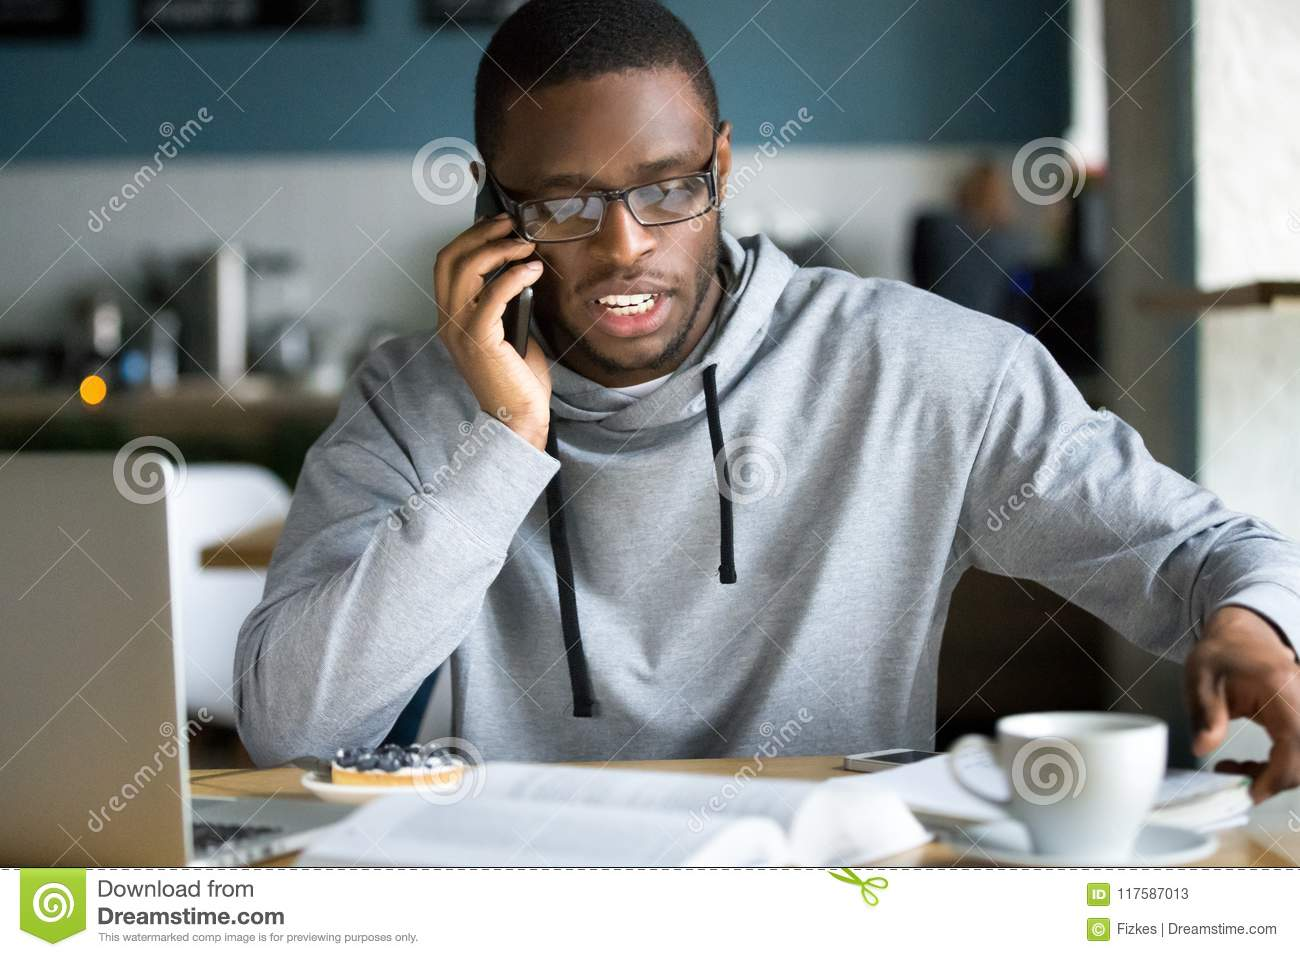phone: (464, 162, 546, 374)
talk: (433, 144, 711, 442)
